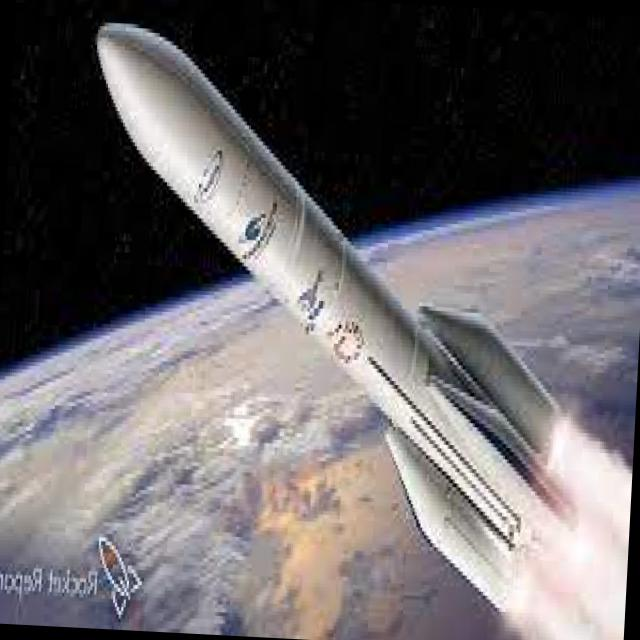rocket: (64, 16, 638, 638)
